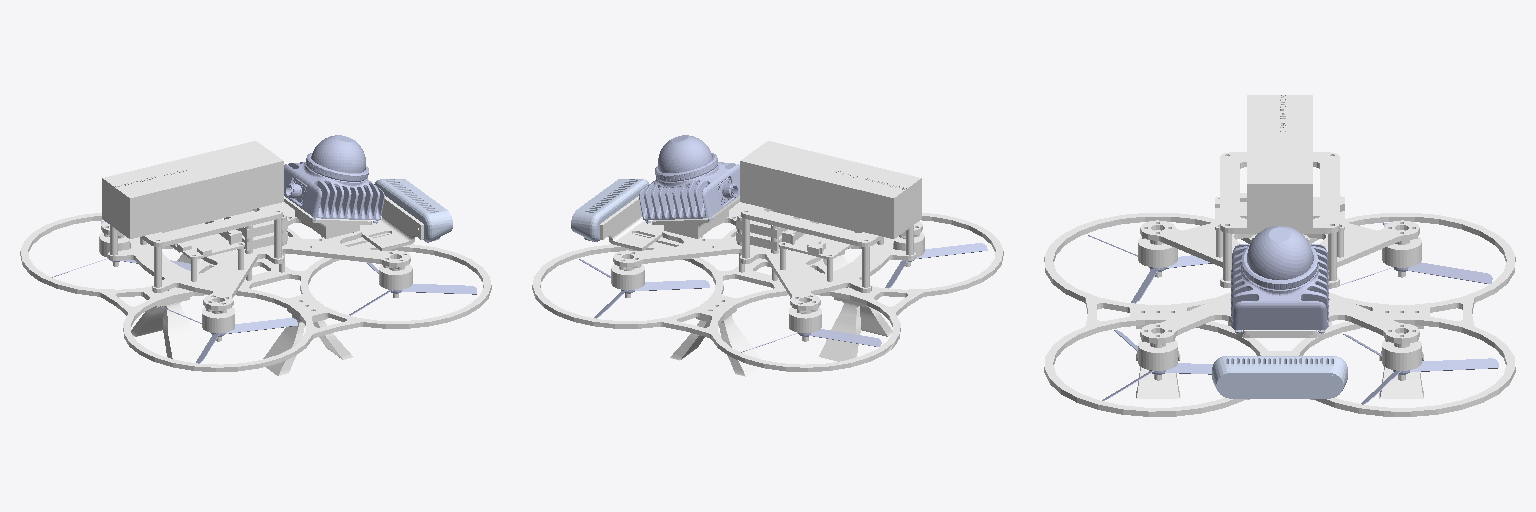
URDF robot description (uav):
<?xml version="1.0" encoding="utf-8"?>
<!-- This URDF was automatically created by SolidWorks to URDF Exporter! Originally created by [author] ([email redacted]) 
     Commit Version: 1.6.0-4-g7f85cfe  Build Version: 1.6.7995.38578
     For more information, please see http://wiki.ros.org/sw_urdf_exporter -->
<robot
  name="uav">
  <link
    name="base_link">
    <inertial>
      <origin
        xyz="-0.0225178215569021 -6.57896227218568E-06 0.0139624643866879"
        rpy="0 0 0" />
      <mass
        value="0.726623151388469" />
      <inertia
        ixx="0.00127644805029181"
        ixy="3.54202350999824E-08"
        ixz="-7.517755485557E-08"
        iyy="0.00189227634416466"
        iyz="-5.82362066379798E-08"
        izz="0.00309210466393083" />
    </inertial>
    <visual>
      <origin
        xyz="0 0 0"
        rpy="0 0 0" />
      <geometry>
        <mesh
          filename="package://uav/meshes/base_link.STL" />
      </geometry>
      <material
        name="">
        <color
          rgba="1 1 1 1" />
      </material>
    </visual>
    <collision>
      <origin
        xyz="0 0 0"
        rpy="0 0 0" />
      <geometry>
        <mesh
          filename="package://uav/meshes/base_link.STL" />
      </geometry>
    </collision>
  </link>
  <link
    name="propeller_1_link">
    <inertial>
      <origin
        xyz="-2.1074E-09 -1.8149E-09 0.0034909"
        rpy="0 0 0" />
      <mass
        value="0.0012983" />
      <inertia
        ixx="5.4247E-07"
        ixy="-3.2114E-14"
        ixz="8.3771E-14"
        iyy="5.4246E-07"
        iyz="5.8084E-15"
        izz="1.0787E-06" />
    </inertial>
    <visual>
      <origin
        xyz="0 0 0"
        rpy="0 0 0" />
      <geometry>
        <mesh
          filename="package://uav/meshes/propeller_1_link.STL" />
      </geometry>
      <material
        name="">
        <color
          rgba="0.79216 0.81961 0.93333 1" />
      </material>
    </visual>
    <collision>
      <origin
        xyz="0 0 0"
        rpy="0 0 0" />
      <geometry>
        <mesh
          filename="package://uav/meshes/propeller_1_link.STL" />
      </geometry>
    </collision>
  </link>
  <joint
    name="propeller_1"
    type="continuous">
    <origin
      xyz="0.081317 0.081317 -0.0264"
      rpy="0 0 0" />
    <parent
      link="base_link" />
    <child
      link="propeller_1_link" />
    <axis
      xyz="0 0 -1" />
  </joint>
  <link
    name="propeller_2_link">
    <inertial>
      <origin
        xyz="-1.0971E-09 -7.3704E-10 0.0034909"
        rpy="0 0 0" />
      <mass
        value="0.0012983" />
      <inertia
        ixx="5.4247E-07"
        ixy="-1.5213E-13"
        ixz="6.0754E-14"
        iyy="5.4246E-07"
        iyz="2.55E-14"
        izz="1.0787E-06" />
    </inertial>
    <visual>
      <origin
        xyz="0 0 0"
        rpy="0 0 0" />
      <geometry>
        <mesh
          filename="package://uav/meshes/propeller_2_link.STL" />
      </geometry>
      <material
        name="">
        <color
          rgba="0.79216 0.81961 0.93333 1" />
      </material>
    </visual>
    <collision>
      <origin
        xyz="0 0 0"
        rpy="0 0 0" />
      <geometry>
        <mesh
          filename="package://uav/meshes/propeller_2_link.STL" />
      </geometry>
    </collision>
  </link>
  <joint
    name="propeller_2"
    type="continuous">
    <origin
      xyz="0.081317 -0.081317 -0.0264"
      rpy="0 0 0" />
    <parent
      link="base_link" />
    <child
      link="propeller_2_link" />
    <axis
      xyz="0 0 -1" />
  </joint>
  <link
    name="propeller_3_link">
    <inertial>
      <origin
        xyz="1.367E-10 -6.9573E-10 0.0034909"
        rpy="0 0 0" />
      <mass
        value="0.0012983" />
      <inertia
        ixx="5.4246E-07"
        ixy="1.5689E-13"
        ixz="4.6336E-14"
        iyy="5.4246E-07"
        iyz="-1.3257E-14"
        izz="1.0787E-06" />
    </inertial>
    <visual>
      <origin
        xyz="0 0 0"
        rpy="0 0 0" />
      <geometry>
        <mesh
          filename="package://uav/meshes/propeller_3_link.STL" />
      </geometry>
      <material
        name="">
        <color
          rgba="0.79216 0.81961 0.93333 1" />
      </material>
    </visual>
    <collision>
      <origin
        xyz="0 0 0"
        rpy="0 0 0" />
      <geometry>
        <mesh
          filename="package://uav/meshes/propeller_3_link.STL" />
      </geometry>
    </collision>
  </link>
  <joint
    name="propeller_3"
    type="continuous">
    <origin
      xyz="-0.081317 -0.081317 -0.0264"
      rpy="0 0 0" />
    <parent
      link="base_link" />
    <child
      link="propeller_3_link" />
    <axis
      xyz="0 0 -1" />
  </joint>
  <link
    name="propeller_4_link">
    <inertial>
      <origin
        xyz="1.93495963696222E-09 -2.09565381714683E-09 0.00349092030652917"
        rpy="0 0 0" />
      <mass
        value="0.00129830968932795" />
      <inertia
        ixx="5.42464801225506E-07"
        ixy="5.45914233770257E-16"
        ixz="-6.31179173579807E-16"
        iyy="5.42464983352553E-07"
        iyz="8.0384792707402E-14"
        izz="1.0786772367004E-06" />
    </inertial>
    <visual>
      <origin
        xyz="0 0 0"
        rpy="0 0 0" />
      <geometry>
        <mesh
          filename="package://uav/meshes/propeller_4_link.STL" />
      </geometry>
      <material
        name="">
        <color
          rgba="0.792156862745098 0.819607843137255 0.933333333333333 1" />
      </material>
    </visual>
    <collision>
      <origin
        xyz="0 0 0"
        rpy="0 0 0" />
      <geometry>
        <mesh
          filename="package://uav/meshes/propeller_4_link.STL" />
      </geometry>
    </collision>
  </link>
  <joint
    name="propeller_4"
    type="continuous">
    <origin
      xyz="-0.081317 0.081317 -0.0264"
      rpy="0 0 0" />
    <parent
      link="base_link" />
    <child
      link="propeller_4_link" />
    <axis
      xyz="0 0 -1" />
  </joint>
  <link
    name="lidar_link">
    <inertial>
      <origin
        xyz="-0.000225895985044744 -2.48539042069229E-07 -0.0356306802252529"
        rpy="0 0 0" />
      <mass
        value="0.126556231362929" />
      <inertia
        ixx="3.65033273726769E-05"
        ixy="-9.06996386175696E-11"
        ixz="3.04767232794276E-07"
        iyy="3.97162828413759E-05"
        iyz="1.45228125953335E-10"
        izz="5.81891052137894E-05" />
    </inertial>
    <visual>
      <origin
        xyz="0 0 0"
        rpy="0 0 0" />
      <geometry>
        <mesh
          filename="package://uav/meshes/lidar_link.STL" />
      </geometry>
      <material
        name="">
        <color
          rgba="0.792156862745098 0.819607843137255 0.933333333333333 1" />
      </material>
    </visual>
    <collision>
      <origin
        xyz="0 0 0"
        rpy="0 0 0" />
      <geometry>
        <mesh
          filename="package://uav/meshes/lidar_link.STL" />
      </geometry>
    </collision>
  </link>
  <joint
    name="lidar"
    type="fixed">
    <origin
      xyz="0.080904 0 0.074681"
      rpy="0 0.2618 0" />
    <parent
      link="base_link" />
    <child
      link="lidar_link" />
    <axis
      xyz="0 0 0" />
  </joint>
  <link
    name="camera_link">
    <inertial>
      <origin
        xyz="0.000136232063015659 -0.0017048035419846 -0.011444044647428"
        rpy="0 0 0" />
      <mass
        value="0.107909832749777" />
      <inertia
        ixx="7.02561489057724E-05"
        ixy="2.88922877896695E-10"
        ixz="-4.93709713285397E-08"
        iyy="7.70986396723321E-06"
        iyz="-1.79670593839534E-08"
        izz="7.125435257498E-05" />
    </inertial>
    <visual>
      <origin
        xyz="0 0 0"
        rpy="0 0 0" />
      <geometry>
        <mesh
          filename="package://uav/meshes/camera_link.STL" />
      </geometry>
      <material
        name="">
        <color
          rgba="0.866666666666667 0.909803921568627 1 1" />
      </material>
    </visual>
    <collision>
      <origin
        xyz="0 0 0"
        rpy="0 0 0" />
      <geometry>
        <mesh
          filename="package://uav/meshes/camera_link.STL" />
      </geometry>
    </collision>
  </link>
  <joint
    name="camera"
    type="fixed">
    <origin
      xyz="0.15532 0.0017162 -0.0013741"
      rpy="0 1.5708 0" />
    <parent
      link="base_link" />
    <child
      link="camera_link" />
    <axis
      xyz="0 0 0" />
  </joint>
</robot>

--- Render facts (derived) ---
Views: 3 orthographic renders of the robot side by side, from view 1: azimuth 30°, elevation 25°; view 2: azimuth 150°, elevation 25°; view 3: azimuth 270°, elevation 25°.
Model uav with 7 links and 6 joints (4 continuous, 2 fixed), rooted at base_link, posed every joint at zero.
Links seen in each view (by area): view 1: base_link, lidar_link, camera_link, propeller_3_link, propeller_2_link; view 2: base_link, lidar_link, camera_link, propeller_1_link, propeller_3_link, propeller_4_link; view 3: base_link, lidar_link, camera_link, propeller_1_link, propeller_4_link, propeller_2_link, propeller_3_link.
Link boxes in pixels (<box>): base_link: <box>20,141,491,376</box>; lidar_link: <box>284,135,384,223</box>; camera_link: <box>374,179,452,242</box>; propeller_3_link: <box>160,306,297,363</box>; propeller_2_link: <box>349,262,476,315</box>; base_link: <box>532,141,1003,376</box>; lidar_link: <box>639,135,739,223</box>; camera_link: <box>571,179,649,241</box>; propeller_1_link: <box>579,259,709,318</box>; propeller_3_link: <box>885,243,987,288</box>; propeller_4_link: <box>741,297,881,352</box>; base_link: <box>1044,95,1515,416</box>; lidar_link: <box>1231,226,1328,333</box>; camera_link: <box>1212,356,1347,398</box>; propeller_1_link: <box>1343,334,1498,404</box>; propeller_4_link: <box>1329,223,1492,288</box>; propeller_2_link: <box>1102,330,1212,400</box>; propeller_3_link: <box>1088,235,1211,303</box>.
Size in the robot's own frame: 0.3143 by 0.3141 by 0.148 metres.
7 mesh visuals loaded from 7 distinct referenced files (7 binary STL).